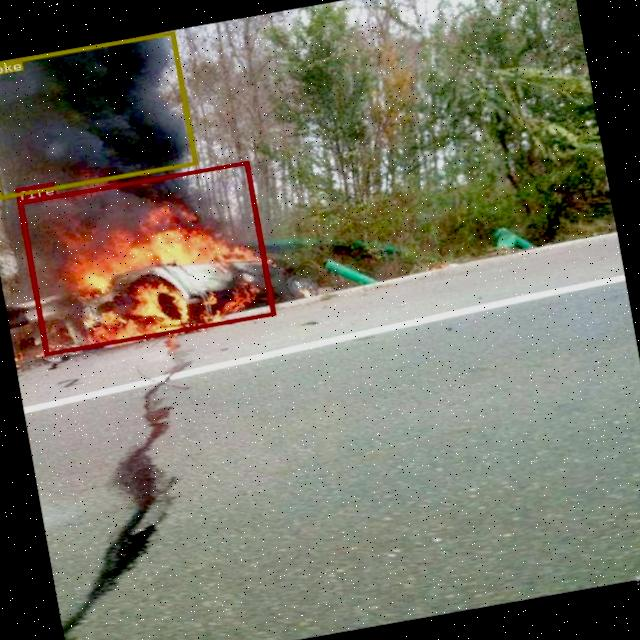fire: (16, 160, 275, 355)
smoke: (0, 30, 197, 199)
